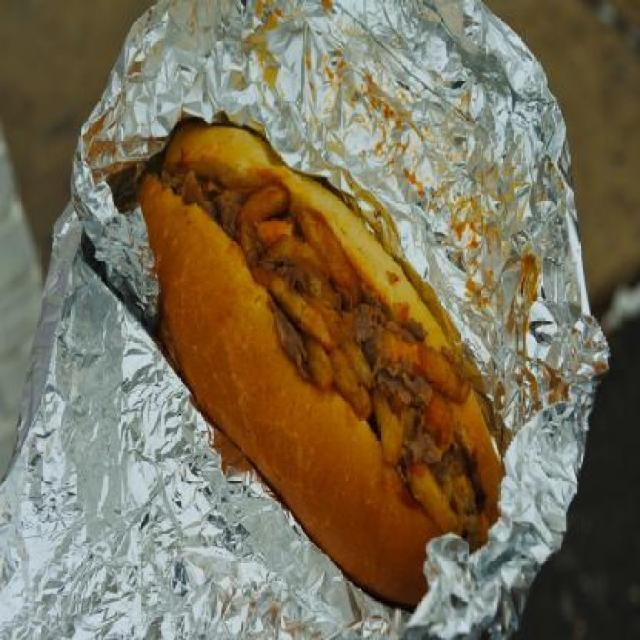Hot dog: (124, 83, 516, 614)
